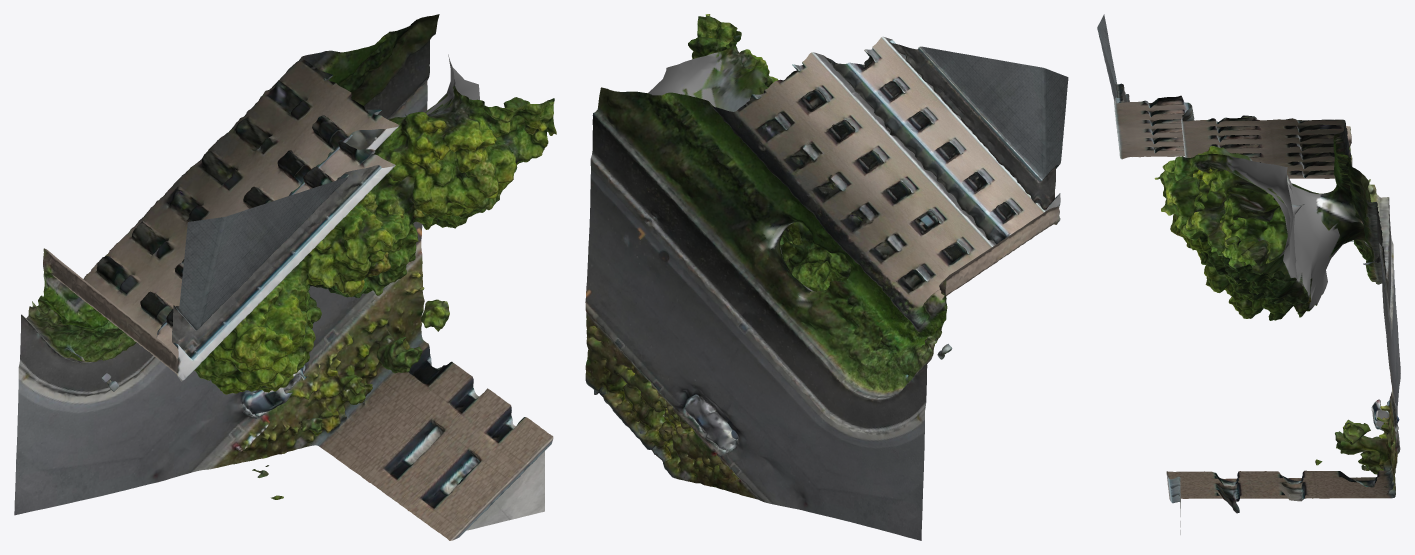
Rendered from Tile_+006_+009.fbx.
3 renders of one model, left to right at view 1: azimuth 30°, elevation 25°; view 2: azimuth 150°, elevation 25°; view 3: azimuth 270°, elevation 25°, orthographic. The views are drawn at different scales.
Parts seen in each view (by area): view 1: DefaultName; view 2: DefaultName; view 3: DefaultName.
Part boxes in pixels (<box>): DefaultName: <box>14,14,556,540</box>; DefaultName: <box>585,14,1068,540</box>; DefaultName: <box>1097,14,1400,534</box>.
Size of the model in its own units: 22.54 by 22.54 by 17.26.
